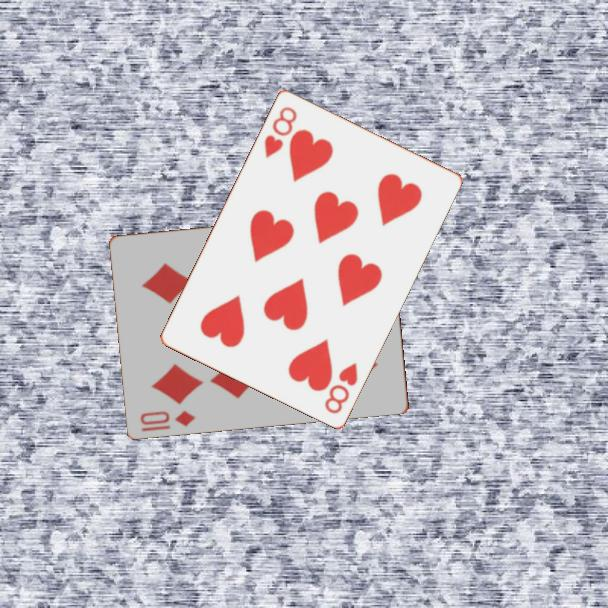d10: (137, 407, 199, 434)
h08: (260, 103, 300, 160), (321, 359, 360, 416)
